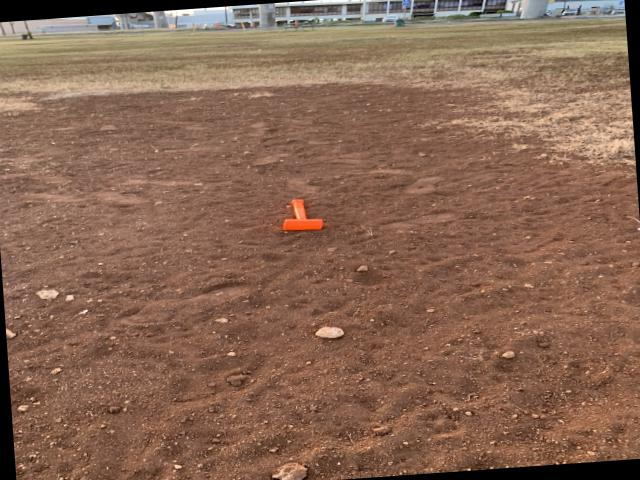hammer: (279, 198, 327, 230)
